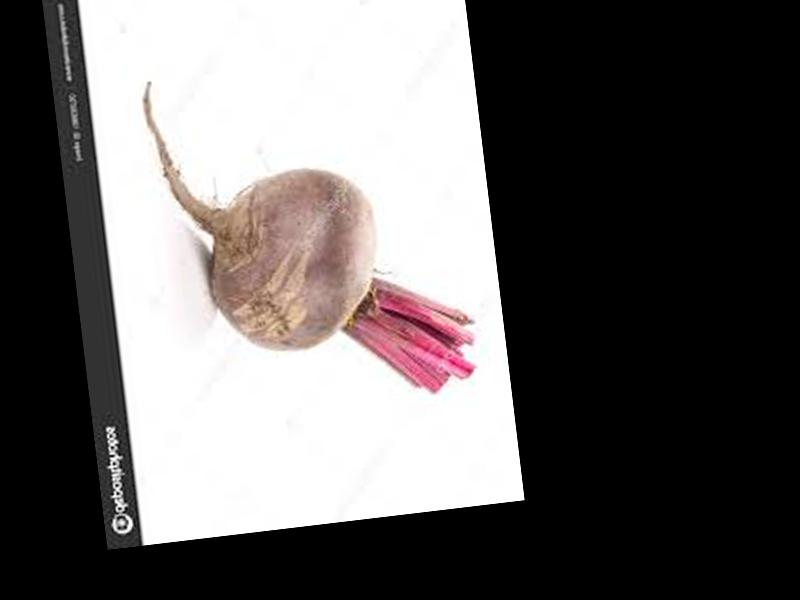Beet: (141, 46, 479, 420)
